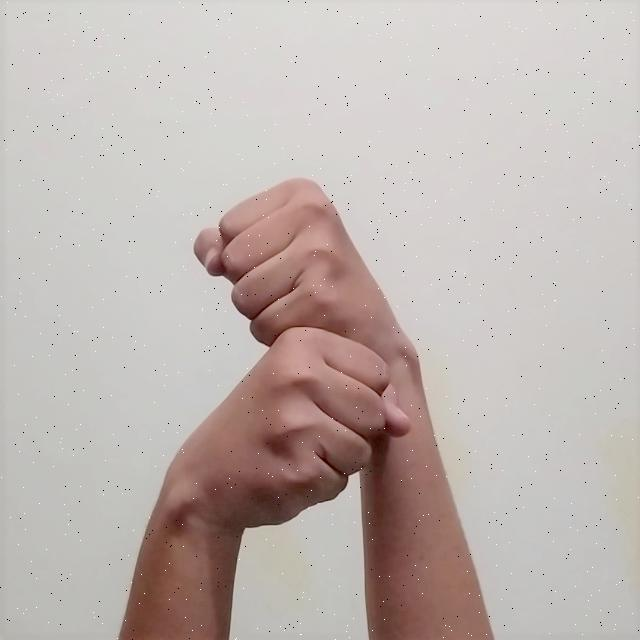G: (140, 170, 439, 542)
